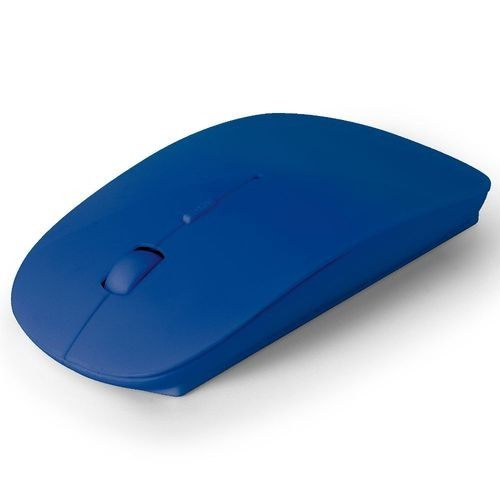mouse: (5, 106, 497, 400)
